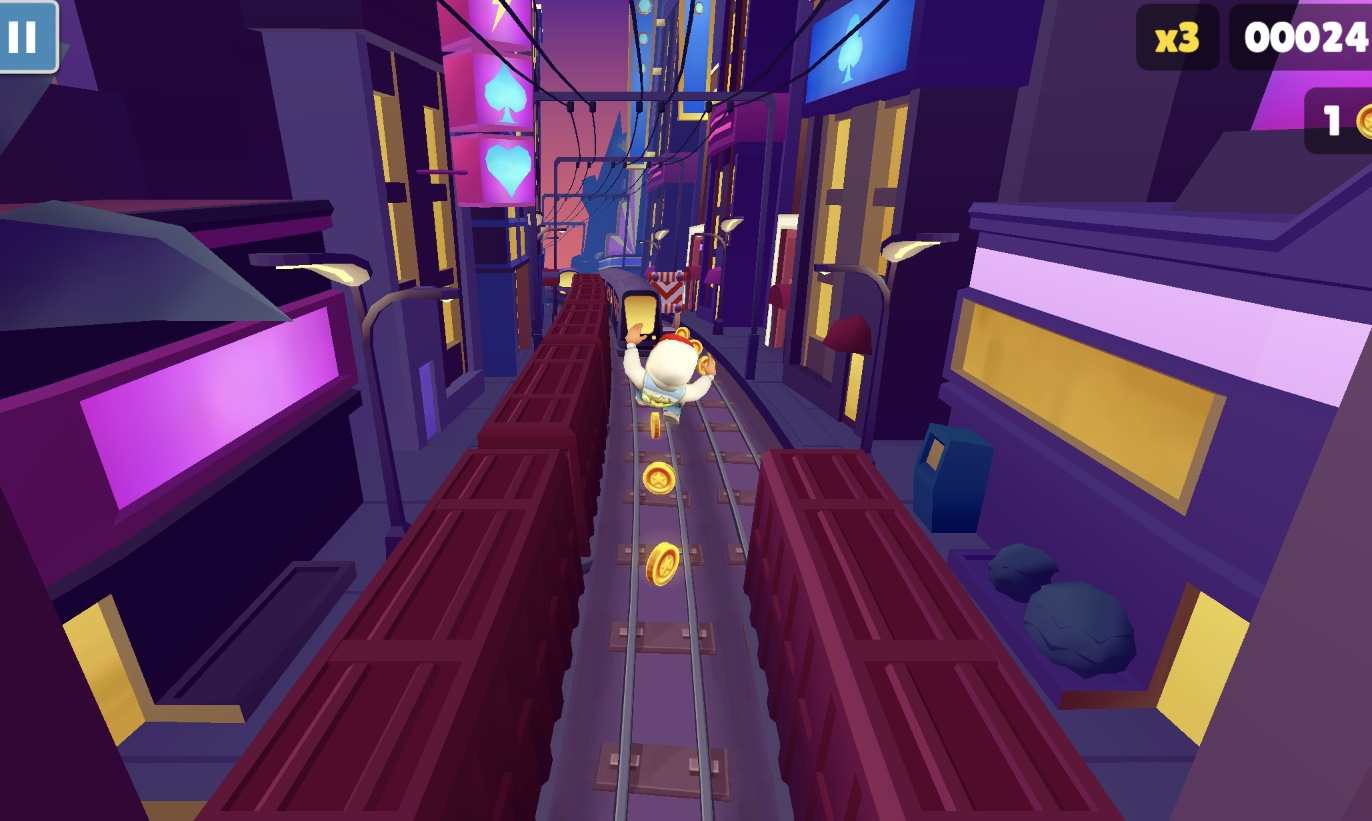overhead_barrier: (652, 271, 691, 336)
train: (206, 280, 617, 821), (747, 448, 1118, 821), (589, 271, 662, 366)
